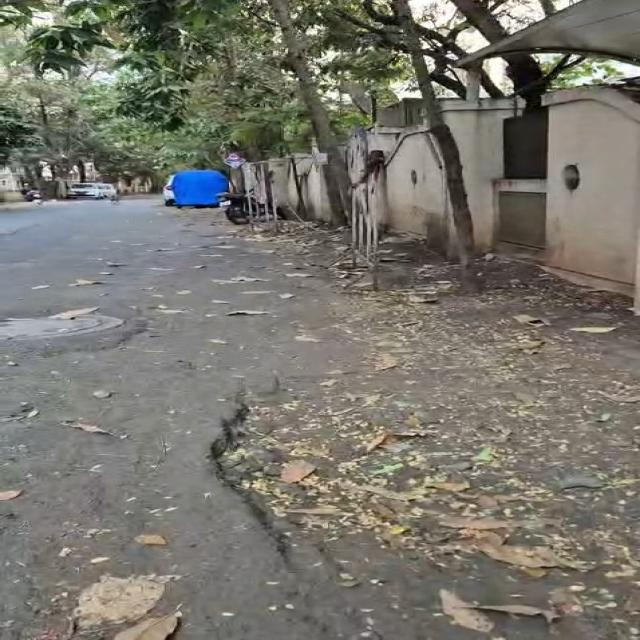obstacle: (390, 0, 475, 287), (270, 0, 350, 223), (0, 104, 34, 165)
pothole: (251, 358, 638, 632)
